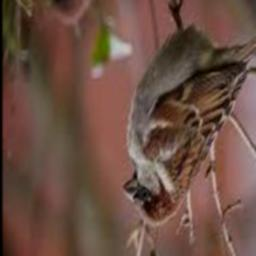Sparrow: (123, 0, 256, 227)
